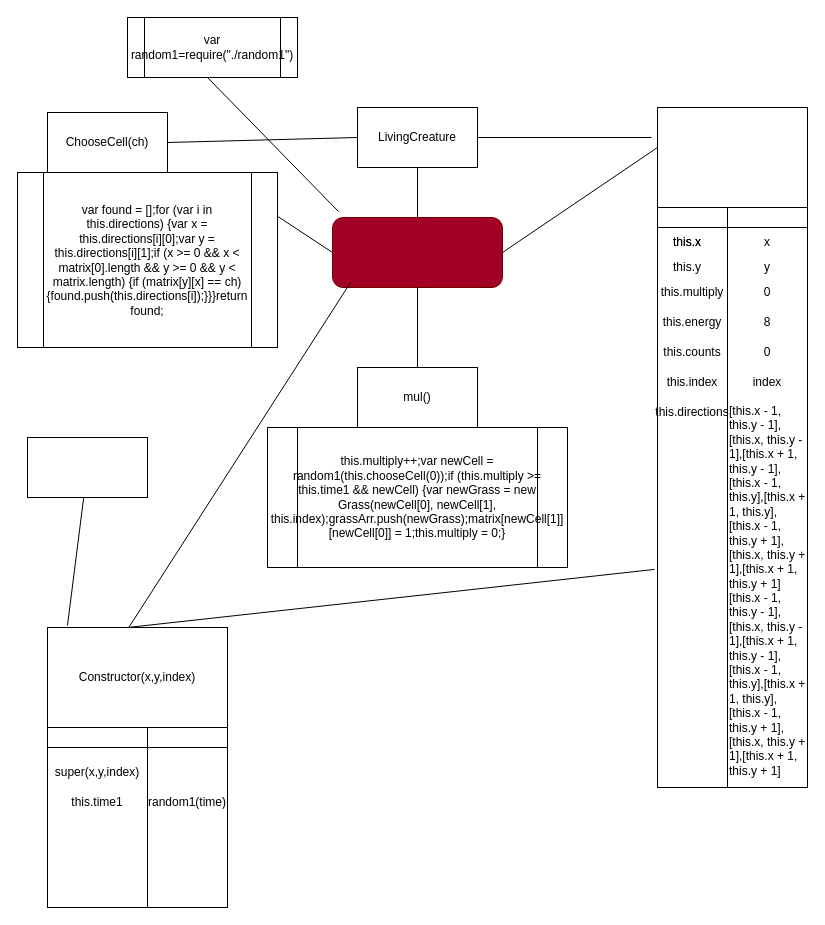
This 825x925 diagram has some shape labels left out. The centre of each missing label's shape, as x and y in pixels:
"Counstructor(x,y,index)" goes at (732,157).
"Grass" goes at (417,252).
"var time= [2,4]" goes at (87,467).
